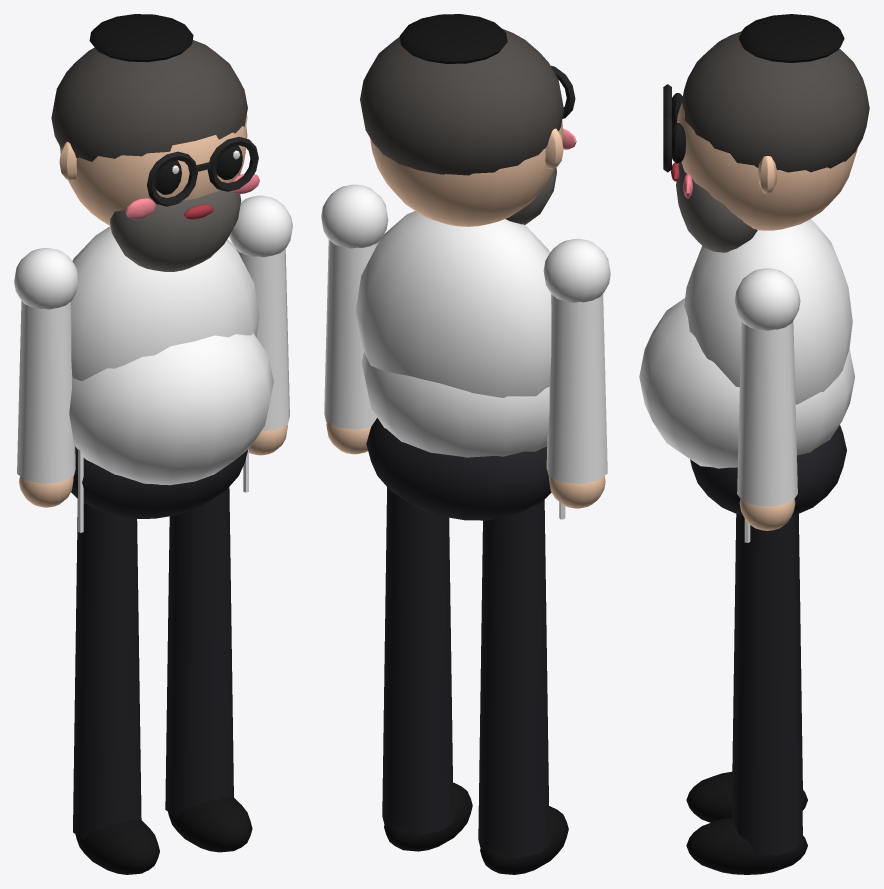
Rendered from law_abba.glb.
3 renders of one model, left to right at view 1: azimuth 30°, elevation 25°; view 2: azimuth 150°, elevation 25°; view 3: azimuth 270°, elevation 25°, orthographic. The views are drawn at different scales.
Visible parts, largest first — view 1: Body.005, Leg_R.004, Leg_L.004, Arm_R.004, Arm_L.004; view 2: Body.005, Leg_R.004, Leg_L.004, Arm_R.004, Arm_L.004; view 3: Body.005, Leg_L.004, Arm_L.004, Leg_R.004.
Boxes of the visible parts, x1,y1,x2,y2 form: Body.005: (51, 14, 273, 532); Leg_R.004: (73, 499, 159, 874); Leg_L.004: (165, 487, 252, 852); Arm_R.004: (14, 248, 78, 507); Arm_L.004: (229, 195, 292, 455); Body.005: (356, 14, 576, 520); Leg_R.004: (478, 500, 568, 874); Leg_L.004: (382, 487, 472, 851); Arm_R.004: (543, 238, 610, 508); Arm_L.004: (321, 184, 388, 454); Body.005: (639, 14, 869, 542); Leg_L.004: (686, 513, 807, 874); Arm_L.004: (734, 268, 800, 530); Leg_R.004: (686, 513, 807, 822).
Size of the model in its own units: 0.6228 by 1.78 by 0.4542.
